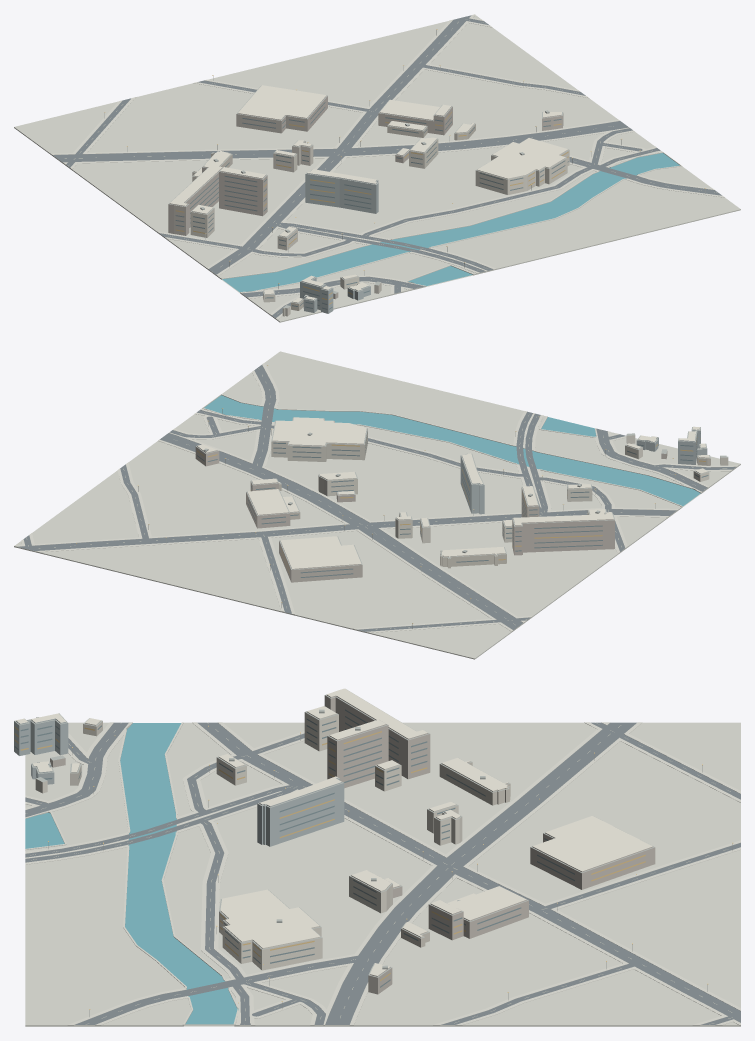
The picture shows the model from 3 angles, top to bottom: view 1: azimuth 30°, elevation 25°; view 2: azimuth 150°, elevation 25°; view 3: azimuth 270°, elevation 25°; orthographic projection. The views are drawn at different scales.
Parts seen in each view (by area): view 1: city; view 2: city; view 3: city.
Boxes of the visible parts, bbox=[...] form: city: bbox=[14, 14, 740, 322]; city: bbox=[14, 351, 740, 659]; city: bbox=[14, 688, 740, 1026].
Size of the model in its own units: 500 by 40.95 by 508.
